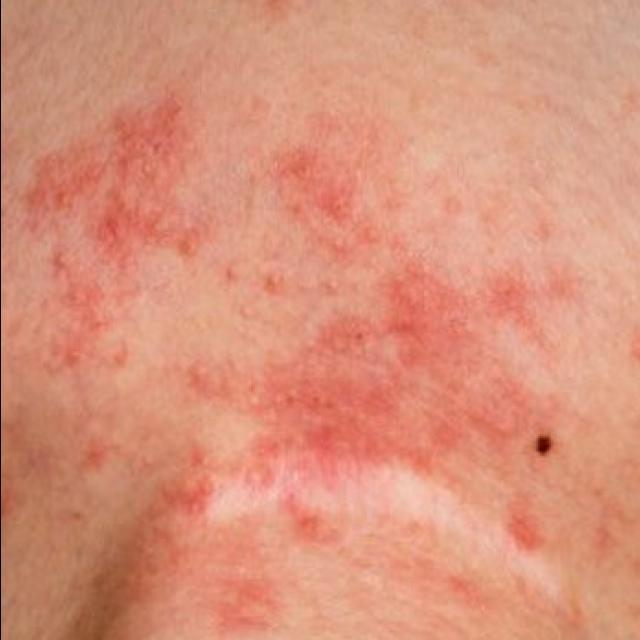AtopicDermatitis: (8, 0, 592, 640)
